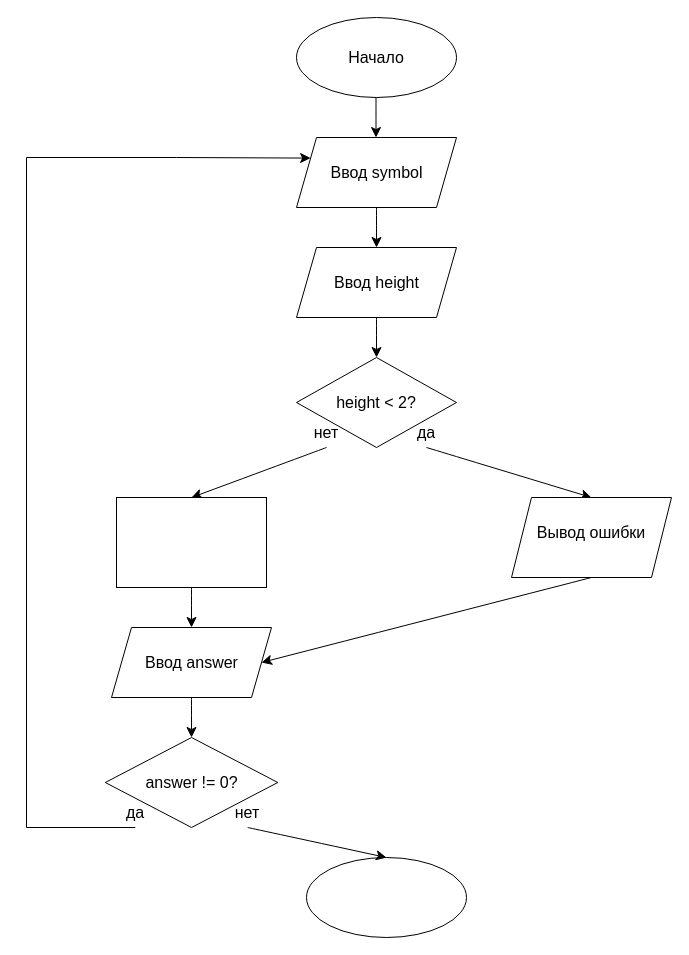
The diagram is 689 pixels wide and 955 high, and some of its shapes have lost their labels. The shapes that lost their labels are listed below. From the top down, each one's centre as x and y in pixels, then its label:
At (x=191, y=542): "Вывод заголовка, вызов draw_triangle(height, symbol".
At (x=386, y=897): "Конец".
